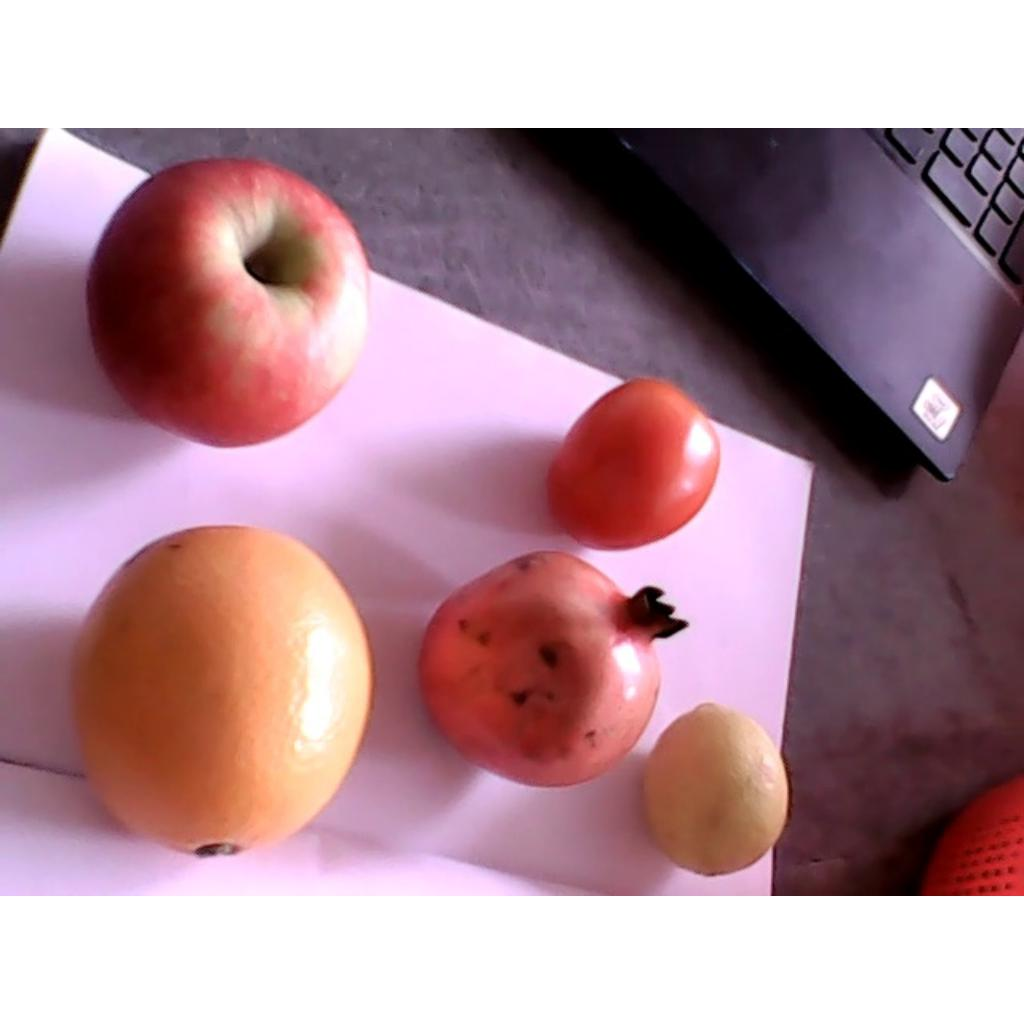apple: (87, 159, 370, 447)
lemon: (641, 702, 788, 877)
orange: (71, 524, 374, 857)
pomegranate: (421, 550, 687, 788)
tomato: (546, 379, 721, 549)
